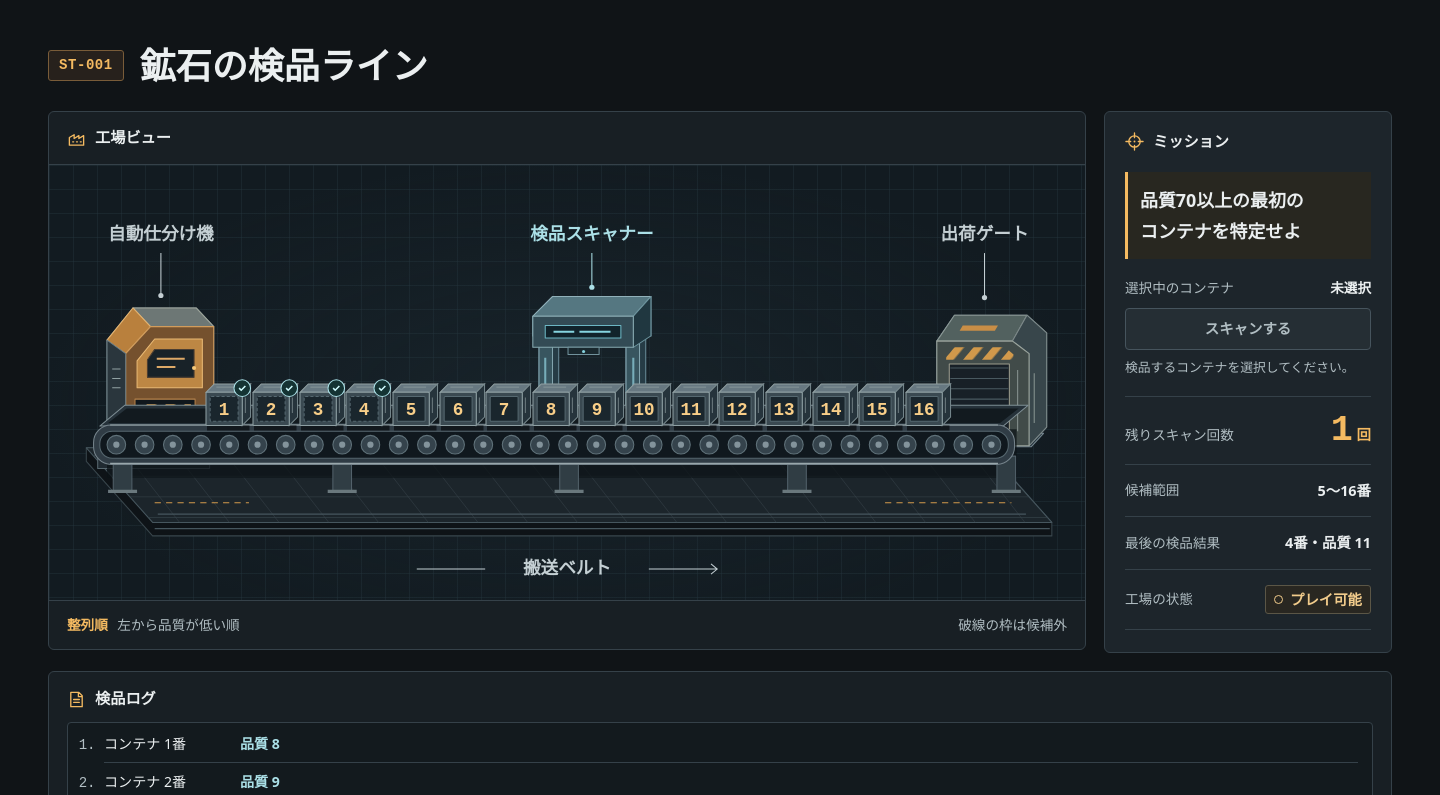
Scenario: terminal results › shows a server failure at zero remaining scans and offers restart
Click the radio button labelled "5". click: (415, 404)
box: [393,384,437,425]
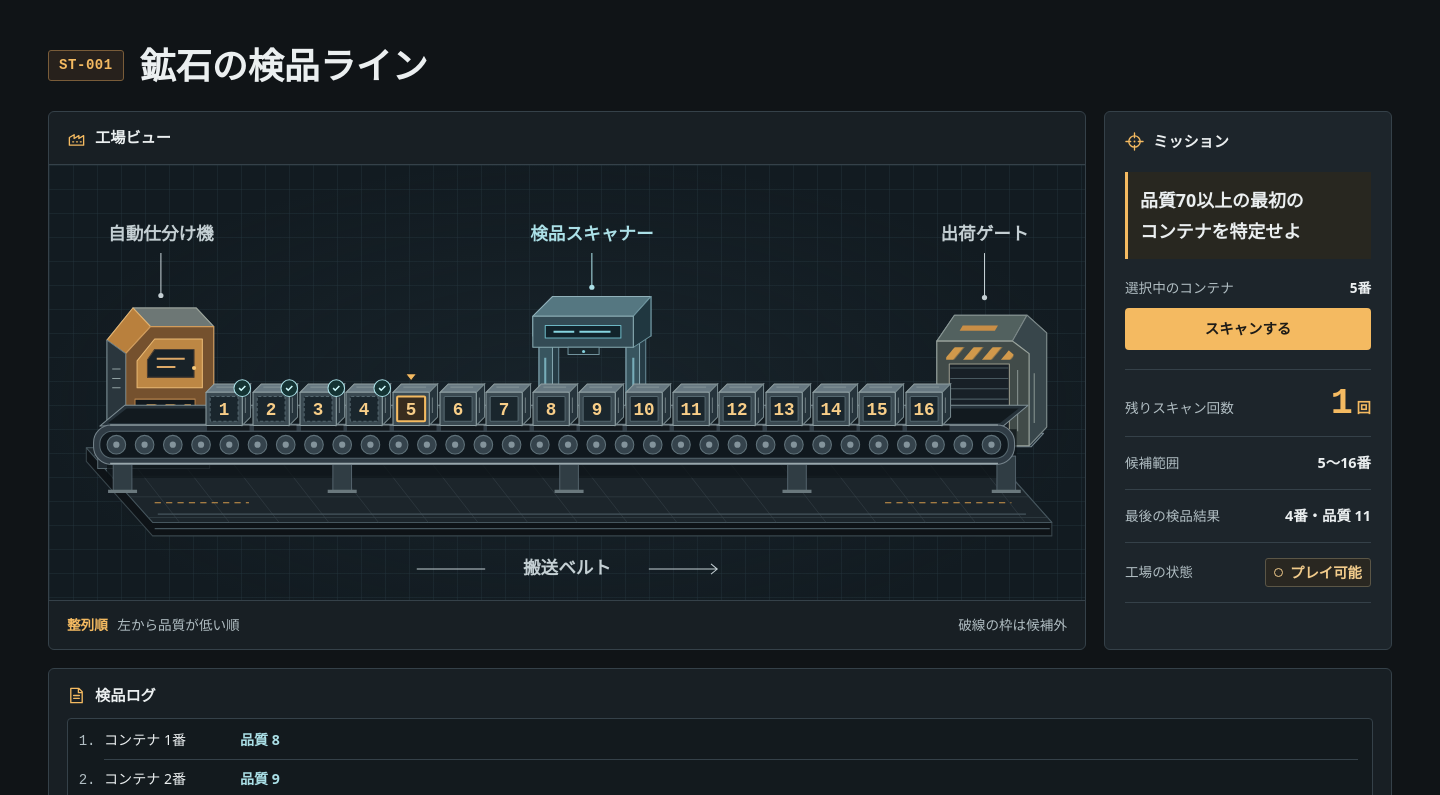
Click the button "スキャンする". click: (1248, 329)
box: [1125,308,1371,350]
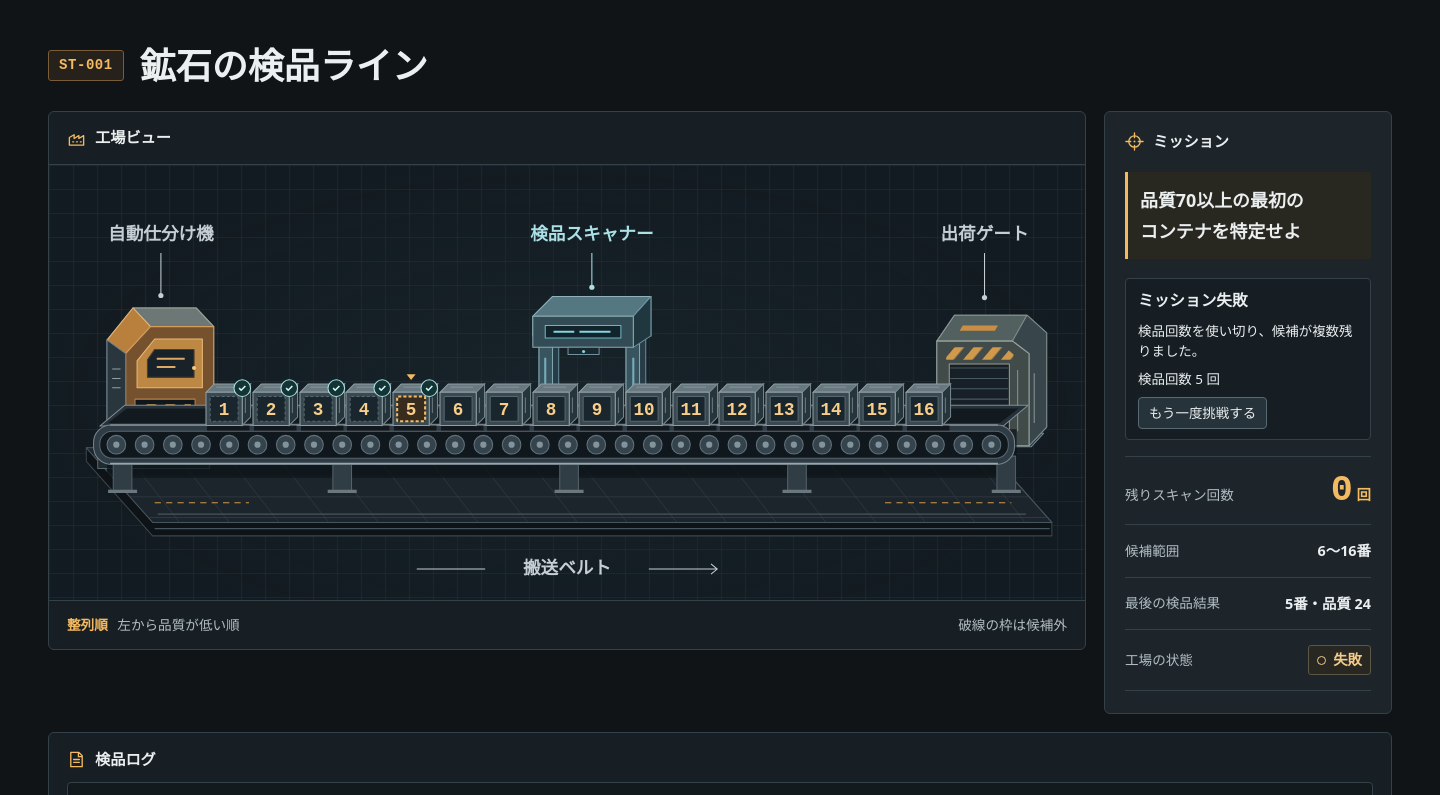
Check: the heading with id "result-title" reads "ミッション失敗", box [1138,289,1248,311]
Check: the text with class "candidate-reading" reads "6〜16番", box [1318,541,1371,560]
Check: the button "もう一度挑戦する" is enabled, box [1138,397,1267,429]
